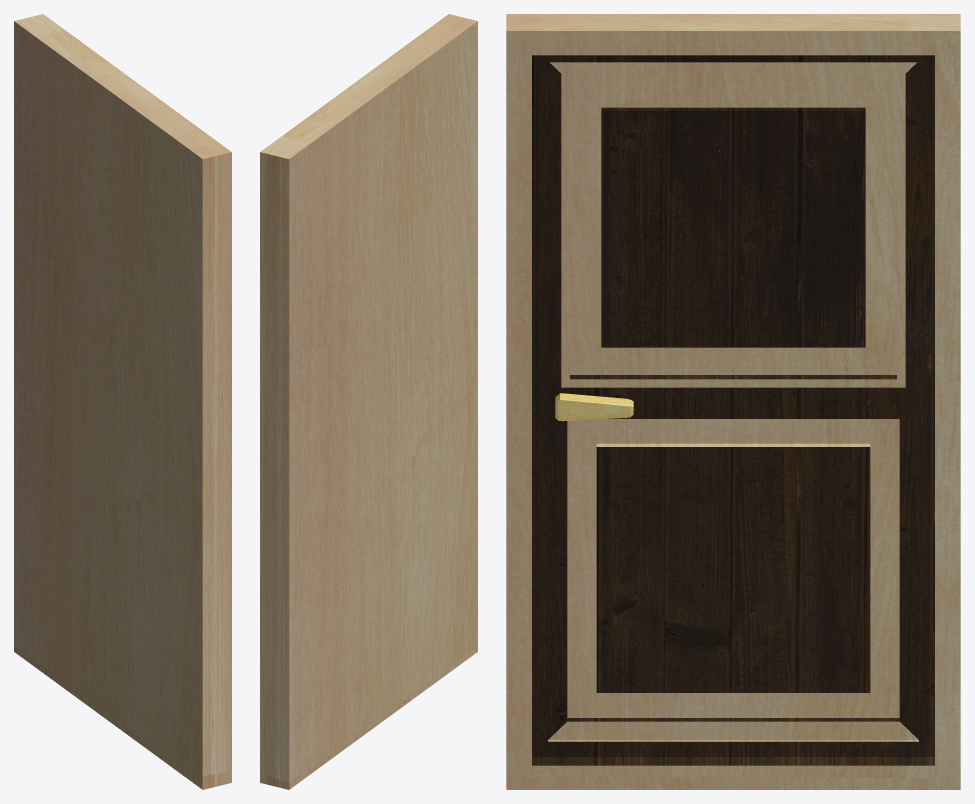
File: Porta-Escritorio.fbx
3 renders of one model, left to right at view 1: azimuth 30°, elevation 25°; view 2: azimuth 150°, elevation 25°; view 3: azimuth 270°, elevation 25°, orthographic. The views are drawn at different scales.
Parts seen in each view (by area): view 1: Cube; view 2: Cube; view 3: Cube, Cube.001.
Part boxes in pixels (<box>): Cube: <box>14,14,231,789</box>; Cube: <box>260,14,477,789</box>; Cube: <box>506,14,960,789</box>; Cube.001: <box>555,393,633,421</box>.
Bounding box in the file's own units: 37.09 × 769 × 417.
Materials: 3 (3 with a texture image).
